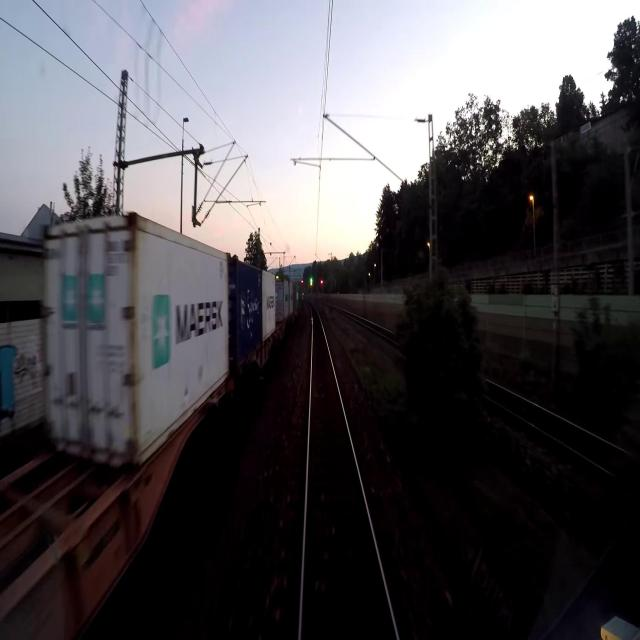rail-track: (360, 319, 640, 485), (302, 303, 395, 639)
